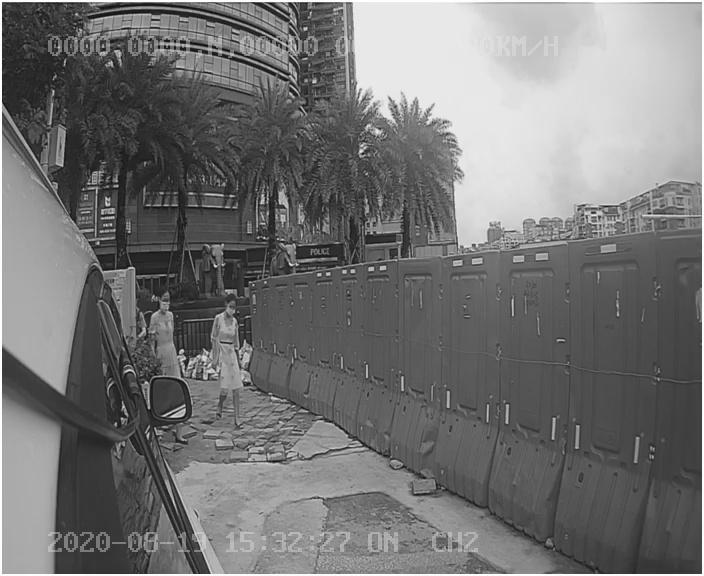person: (207, 297, 266, 431)
